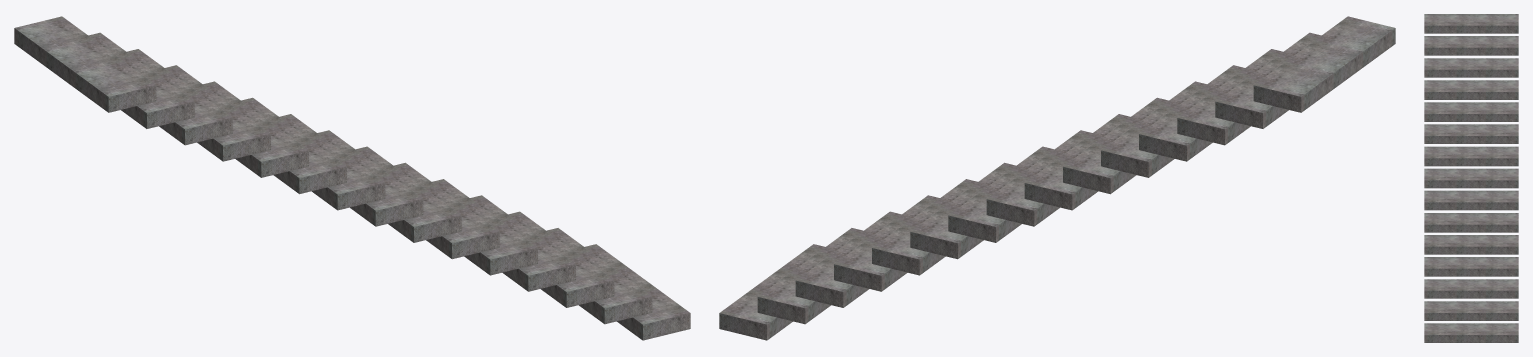
Rendered from Escalones 1.fbx.
The picture shows the model from 3 angles, left to right: view 1: azimuth 30°, elevation 25°; view 2: azimuth 150°, elevation 25°; view 3: azimuth 270°, elevation 25°; orthographic projection. The views are drawn at different scales.
Parts seen in each view (by area): view 1: Escalones Nuevos.001; view 2: Escalones Nuevos.001; view 3: Escalones Nuevos.001.
Part boxes in pixels (x1,y1,x2,y2): Escalones Nuevos.001: (14,16,690,340); Escalones Nuevos.001: (719,16,1395,340); Escalones Nuevos.001: (1424,14,1518,342).
Size of the model in its own units: 5842 by 3589 by 1639.
